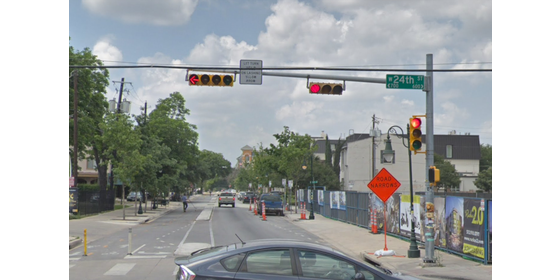left turn yield on flashing yellow arrow sign: (239, 57, 263, 87)
street name sign: (386, 73, 425, 91)
